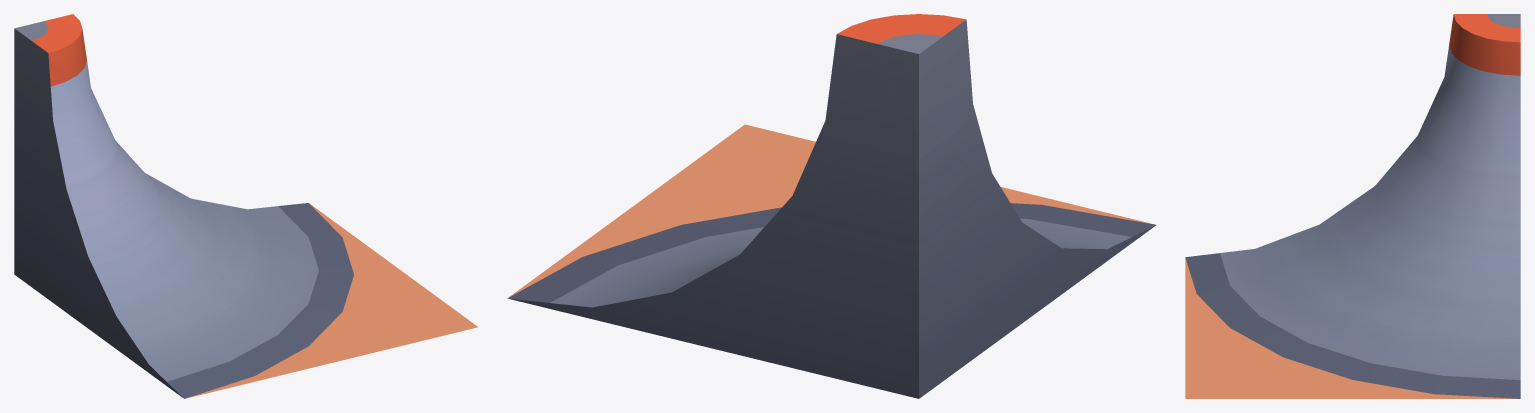
Rendered from bowl-corner-outer-transformed.glb.
The picture shows the model from 3 angles, left to right: view 1: azimuth 30°, elevation 25°; view 2: azimuth 150°, elevation 25°; view 3: azimuth 270°, elevation 25°; orthographic projection. The views are drawn at different scales.
Parts seen in each view (by area): view 1: bowl-corner-outer; view 2: bowl-corner-outer; view 3: bowl-corner-outer.
Boxes of the visible parts, left/top/right/bottom form: bowl-corner-outer: left=14, top=14, right=477, bottom=398; bowl-corner-outer: left=507, top=14, right=1156, bottom=398; bowl-corner-outer: left=1185, top=14, right=1520, bottom=398.
Size of the model in its own units: 1 by 0.8 by 1.
1 material, 1 textured.
